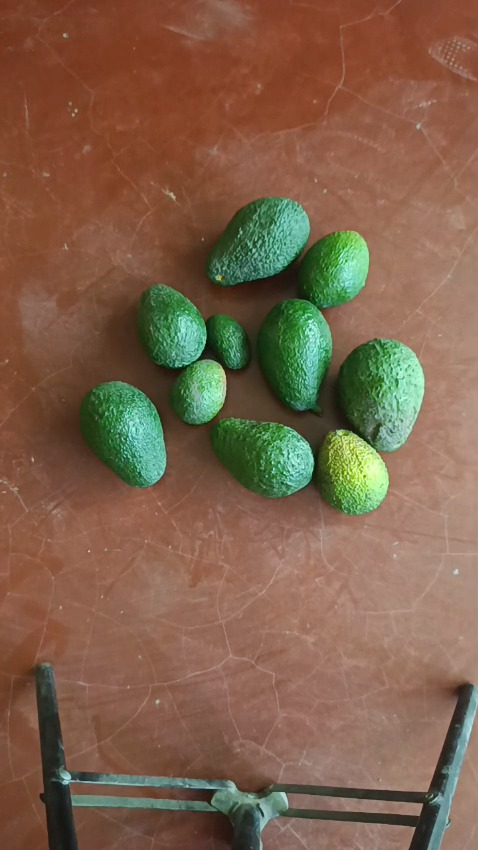Primera: (337, 338, 425, 450), (79, 381, 167, 487), (206, 197, 310, 286), (255, 299, 333, 413), (212, 418, 315, 498)
Segunda: (314, 429, 388, 514), (135, 282, 207, 369), (297, 231, 369, 309)
Tercera: (169, 358, 227, 425), (205, 314, 250, 371)
